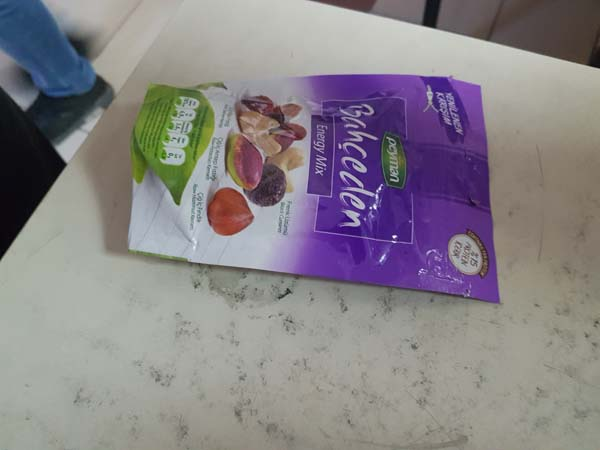bahcedenenergymix: (127, 74, 511, 306)
